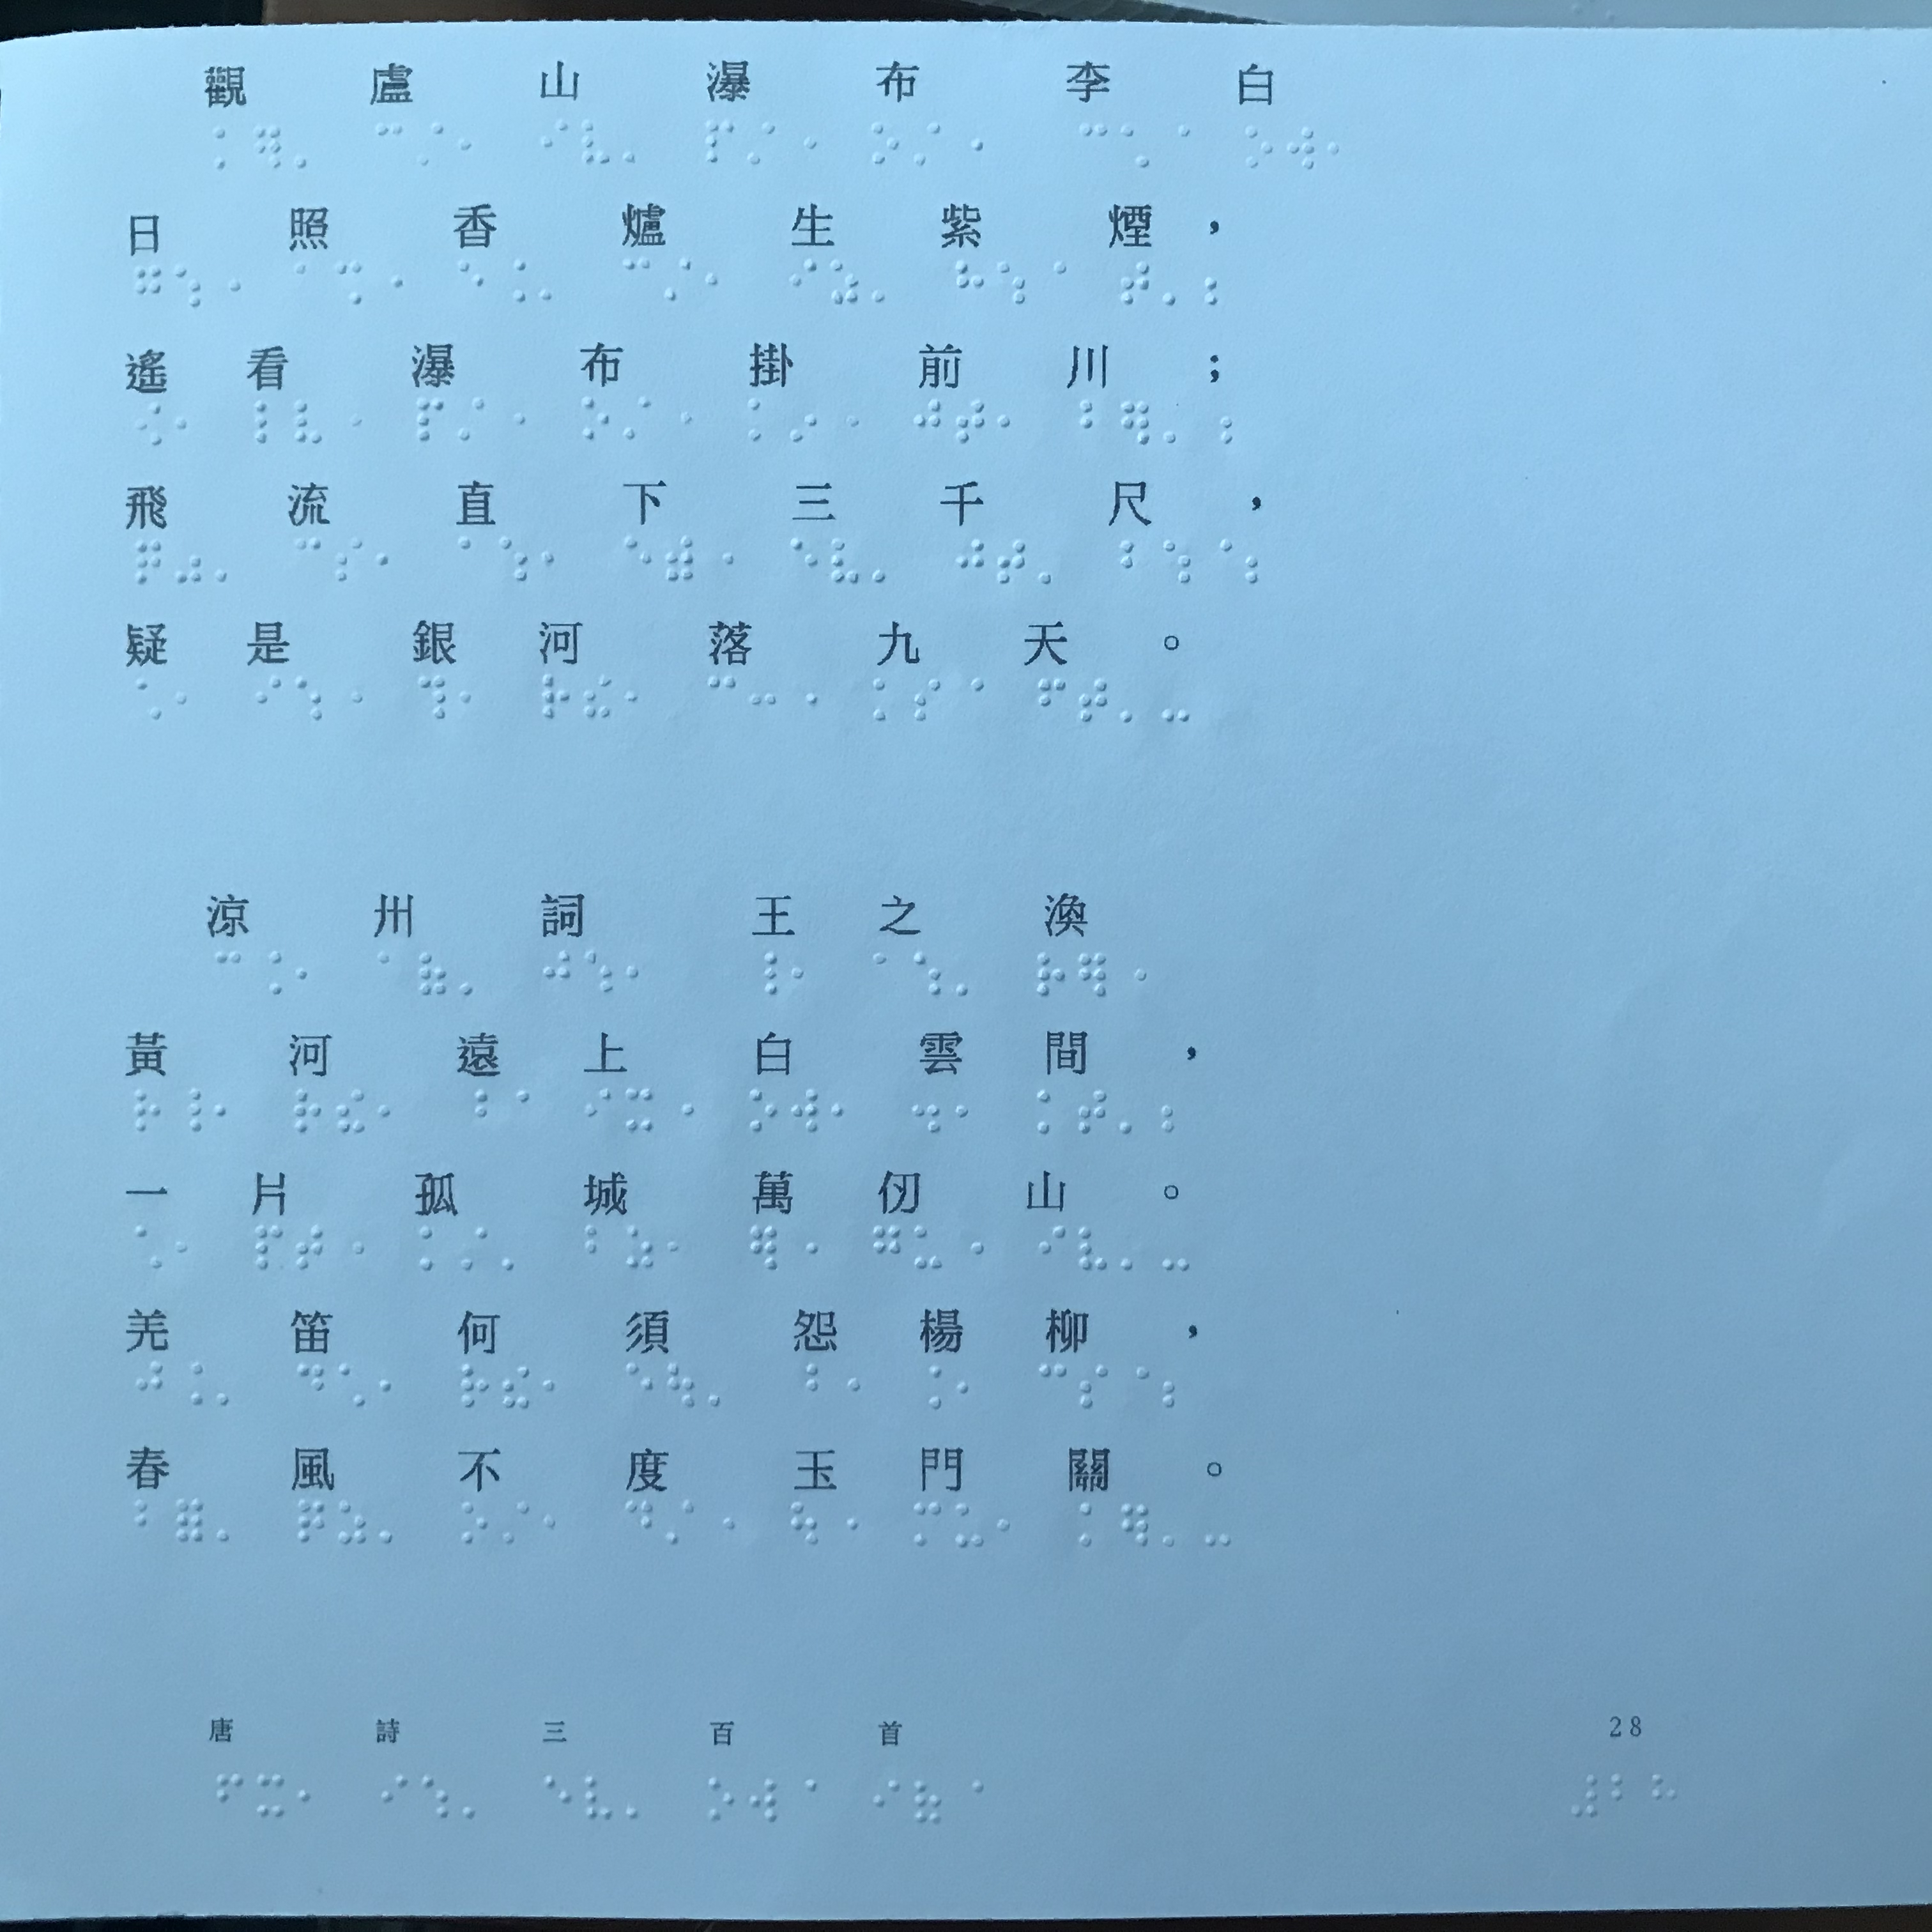Braille: (582, 672, 612, 722), (1037, 674, 1067, 724), (830, 258, 860, 306), (663, 534, 694, 582), (419, 672, 449, 720), (418, 950, 448, 998), (1079, 1088, 1109, 1136), (954, 1502, 984, 1550), (748, 948, 777, 998), (1122, 260, 1152, 306), (1079, 1364, 1109, 1410), (253, 124, 281, 172), (1081, 676, 1109, 724), (1037, 950, 1065, 998), (294, 1088, 322, 1136), (297, 1497, 326, 1545), (789, 1502, 817, 1550), (913, 1500, 941, 1548), (421, 1773, 449, 1821), (458, 1088, 488, 1132), (295, 1226, 326, 1270), (1037, 1224, 1067, 1269), (1290, 124, 1316, 173), (625, 533, 651, 582), (832, 538, 858, 587), (876, 950, 902, 1000), (913, 1086, 939, 1136), (955, 1086, 982, 1136), (416, 122, 444, 168), (582, 120, 610, 166), (913, 122, 941, 168), (1244, 124, 1272, 170), (334, 260, 363, 306), (998, 262, 1026, 308), (957, 398, 985, 444), (541, 674, 570, 720), (1161, 679, 1189, 725), (913, 950, 941, 996), (173, 1088, 202, 1134), (336, 1088, 364, 1134), (626, 1088, 655, 1134), (874, 1224, 902, 1270), (913, 1226, 941, 1272), (177, 1497, 205, 1543), (340, 1500, 368, 1546), (1123, 124, 1150, 172), (175, 264, 202, 311), (458, 258, 485, 306), (957, 260, 984, 308), (1123, 398, 1150, 446), (1219, 396, 1246, 444), (501, 534, 527, 582), (1079, 950, 1106, 998), (462, 1362, 488, 1410), (626, 1361, 653, 1408), (667, 1362, 694, 1410), (915, 1778, 941, 1826), (623, 396, 651, 441), (789, 398, 817, 442), (913, 398, 941, 442), (1081, 400, 1109, 444), (253, 950, 281, 994), (750, 1780, 778, 1824), (1571, 1773, 1599, 1817), (872, 122, 899, 168), (136, 402, 163, 448), (295, 400, 322, 446), (418, 398, 444, 444), (334, 536, 361, 582), (957, 538, 984, 584), (1000, 538, 1026, 584), (297, 674, 324, 720), (915, 676, 941, 722), (134, 1088, 161, 1134), (750, 1088, 777, 1134), (791, 1086, 817, 1132), (255, 1226, 281, 1272), (258, 1773, 285, 1819), (1205, 262, 1233, 304), (460, 1502, 488, 1545), (1083, 122, 1108, 170), (216, 948, 241, 996), (752, 1224, 777, 1272), (1081, 1224, 1106, 1272), (1161, 1362, 1185, 1410), (998, 1500, 1023, 1548), (1079, 1500, 1104, 1548), (541, 119, 568, 163), (708, 119, 734, 163), (789, 122, 816, 166), (134, 265, 161, 310), (253, 400, 280, 444), (458, 396, 485, 441), (582, 396, 609, 441), (832, 398, 858, 442), (177, 543, 203, 587), (1164, 540, 1191, 584), (255, 674, 281, 718), (957, 678, 984, 722), (543, 950, 570, 994), (791, 952, 817, 996), (791, 1362, 817, 1407), (833, 1362, 860, 1407), (916, 1366, 943, 1410), (1040, 1364, 1067, 1408), (1122, 1364, 1148, 1408), (667, 1500, 694, 1545), (545, 1773, 571, 1817), (1161, 1231, 1189, 1272), (750, 120, 775, 166), (1329, 124, 1352, 173), (499, 258, 524, 304), (793, 536, 817, 582), (626, 674, 651, 720), (1120, 950, 1145, 996), (1039, 1090, 1063, 1136), (504, 1364, 529, 1410), (957, 1364, 982, 1410), (1123, 1502, 1148, 1548), (587, 1776, 612, 1822), (708, 1775, 732, 1821), (1612, 1769, 1637, 1815), (665, 258, 692, 301), (791, 260, 817, 303), (295, 536, 322, 579), (1205, 540, 1231, 582), (1247, 540, 1274, 582), (750, 676, 777, 718), (957, 1228, 984, 1270), (502, 1502, 529, 1545), (543, 1504, 570, 1546), (628, 1500, 655, 1543), (957, 1776, 984, 1819), (543, 1364, 566, 1412), (460, 122, 485, 166), (667, 396, 692, 441), (1000, 400, 1024, 444), (138, 540, 163, 584), (458, 954, 483, 998), (587, 950, 612, 994), (955, 954, 980, 998), (1162, 1090, 1187, 1134), (462, 1226, 487, 1270), (628, 1226, 653, 1270), (708, 1364, 732, 1408), (219, 1769, 244, 1813), (876, 1778, 901, 1822), (623, 122, 649, 163), (709, 672, 736, 713), (1205, 1507, 1231, 1548), (791, 1780, 817, 1821), (961, 122, 984, 168), (1162, 260, 1185, 306), (1164, 400, 1187, 446), (543, 536, 566, 582), (1122, 538, 1145, 584), (876, 676, 899, 722), (136, 1497, 159, 1543), (292, 127, 317, 170), (380, 262, 405, 304), (872, 262, 897, 304), (1040, 262, 1065, 304), (872, 540, 897, 582), (793, 1226, 817, 1269), (179, 1361, 203, 1403), (297, 1362, 322, 1405), (340, 1364, 364, 1407), (299, 1775, 324, 1817), (382, 1773, 407, 1815), (706, 258, 729, 303), (750, 398, 773, 442), (460, 674, 483, 718), (297, 950, 320, 994), (214, 1090, 237, 1134), (1120, 1092, 1143, 1136), (138, 1226, 161, 1270), (625, 258, 649, 299), (460, 536, 485, 577), (136, 1361, 161, 1401), (709, 1504, 734, 1545), (833, 1506, 858, 1546), (214, 124, 235, 170), (379, 122, 402, 165), (1166, 124, 1189, 166), (338, 402, 361, 444), (377, 538, 400, 580), (709, 536, 732, 579), (1122, 681, 1145, 724), (379, 1092, 402, 1134), (421, 1228, 444, 1270), (218, 1502, 241, 1545), (1164, 1502, 1185, 1548), (1654, 1773, 1677, 1815), (216, 545, 241, 584), (793, 679, 817, 718), (669, 1090, 694, 1129), (379, 1506, 403, 1545), (219, 265, 241, 310), (628, 952, 649, 996), (540, 260, 563, 301), (136, 681, 159, 722), (340, 676, 363, 717), (377, 950, 400, 991), (506, 1088, 529, 1129), (587, 1088, 610, 1129), (340, 1228, 363, 1269), (587, 1226, 610, 1267), (214, 1364, 237, 1405), (380, 1366, 403, 1407), (294, 262, 315, 304), (177, 403, 198, 446), (502, 398, 524, 441), (1040, 541, 1062, 584), (833, 1086, 855, 1129), (1120, 1228, 1141, 1270), (501, 1231, 524, 1270), (667, 1228, 690, 1267), (177, 1228, 198, 1269), (462, 1780, 485, 1817), (626, 1780, 646, 1819), (175, 681, 193, 718)
